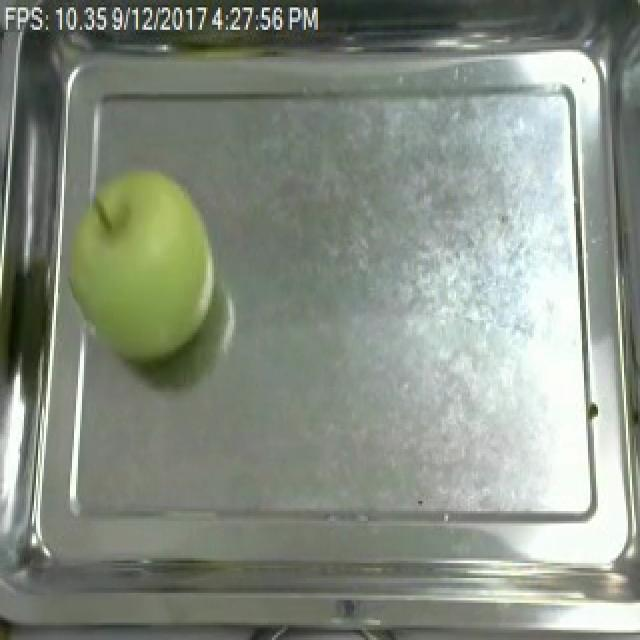50-_ripeness: (60, 168, 230, 375)
